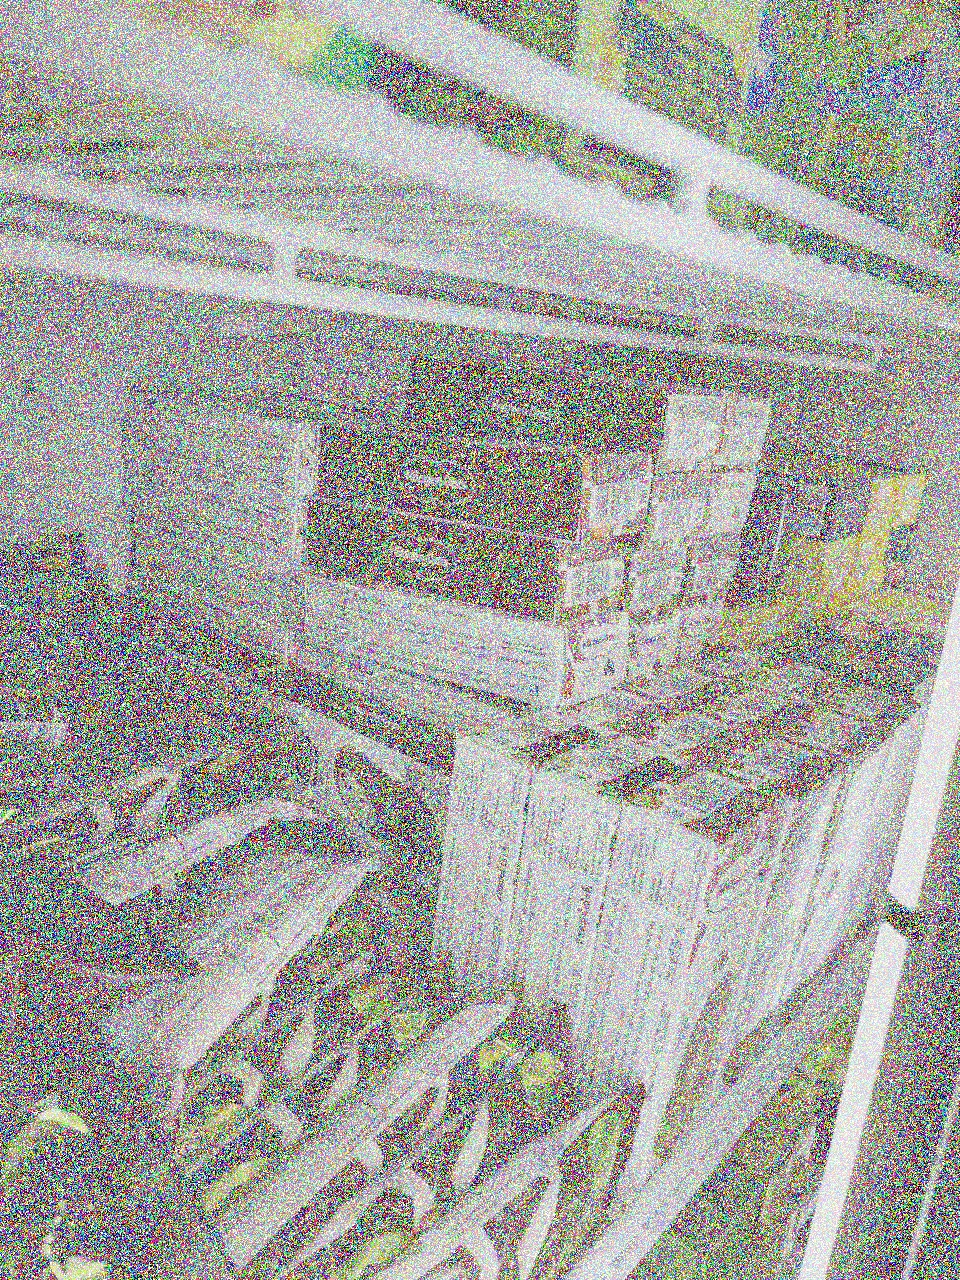Haagen-Dazs IceCream Bars: (570, 777, 773, 1178), (410, 722, 671, 1018), (683, 739, 854, 1073), (315, 413, 649, 537), (284, 508, 625, 627), (395, 353, 716, 472), (292, 613, 629, 711), (694, 397, 798, 464), (611, 527, 679, 617), (674, 536, 746, 604), (649, 469, 707, 543), (700, 467, 754, 541), (663, 602, 731, 654), (627, 613, 679, 679)
